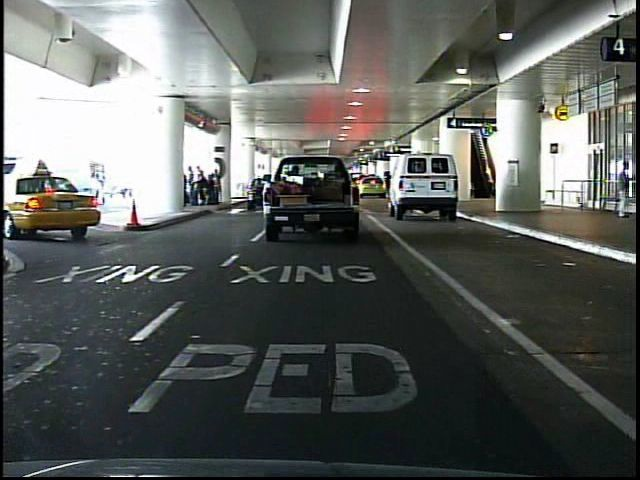person: (609, 158, 635, 220)
